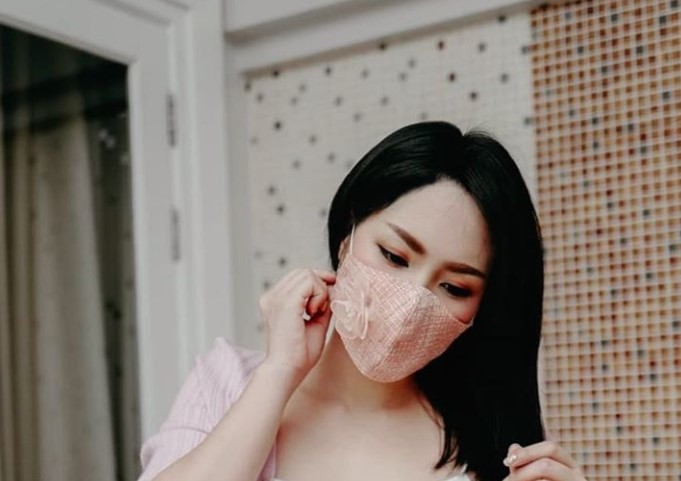face_with_mask: (325, 122, 526, 388)
